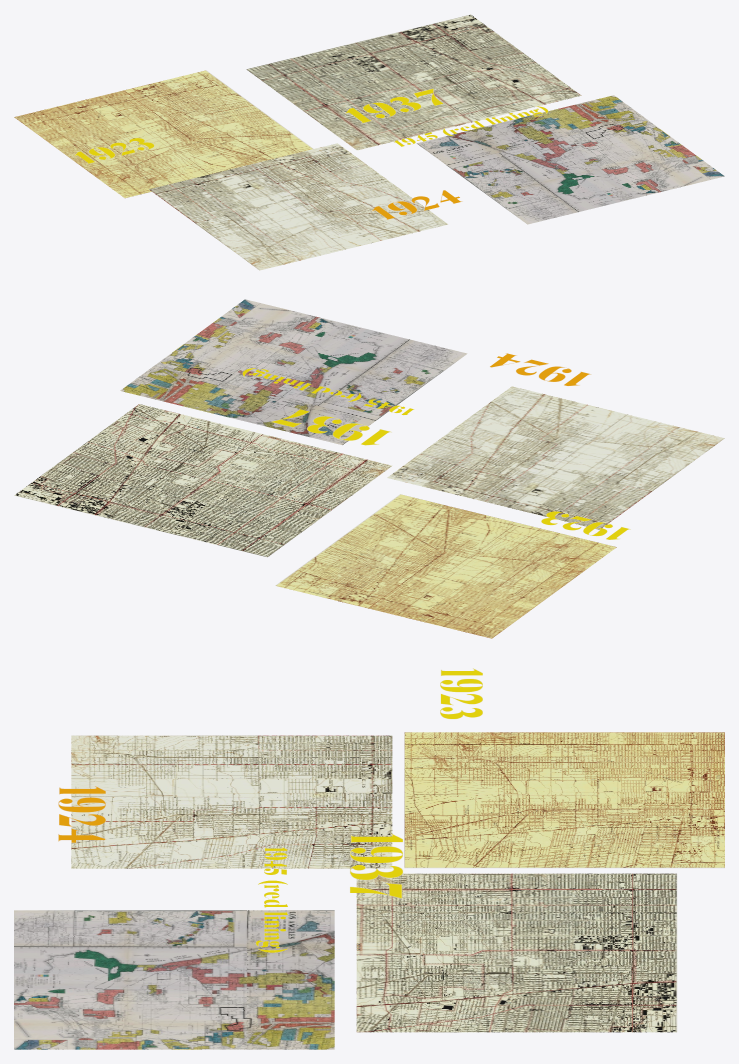
The model's file is asset.glb.
The picture shows the model from 3 angles, top to bottom: view 1: azimuth 30°, elevation 25°; view 2: azimuth 150°, elevation 25°; view 3: azimuth 270°, elevation 25°; orthographic projection. The views are drawn at different scales.
Visible parts, largest first — view 1: 1937, 1945, 1924, 1923, 1937.001, 1924.001, 1945.001, 1923.001; view 2: 1937, 1923, 1945, 1924, 1937.001, 1924.001, 1945.001, 1923.001; view 3: 1937, 1945, 1923, 1924, 1937.001, 1924.001, 1945.001, 1923.001.
Part boxes in pixels (x1,y1,x2,y2): 1937: [246, 14, 581, 150]; 1945: [417, 95, 724, 224]; 1924: [149, 143, 447, 270]; 1923: [14, 70, 313, 198]; 1937.001: [345, 88, 443, 123]; 1924.001: [371, 190, 462, 219]; 1945.001: [394, 106, 548, 146]; 1923.001: [74, 138, 154, 163]; 1937: [14, 404, 392, 557]; 1923: [275, 494, 616, 638]; 1945: [120, 299, 467, 444]; 1924: [387, 386, 724, 529]; 1937.001: [271, 409, 391, 445]; 1924.001: [490, 353, 591, 386]; 1945.001: [242, 368, 414, 415]; 1923.001: [541, 511, 630, 539]; 1937: [356, 873, 677, 1032]; 1945: [14, 910, 334, 1049]; 1923: [404, 732, 724, 868]; 1924: [71, 735, 392, 868]; 1937.001: [350, 833, 402, 898]; 1924.001: [58, 786, 105, 842]; 1945.001: [255, 847, 287, 952]; 1923.001: [440, 668, 482, 719].
Size of the model in its own units: 2.57 by 0.1753 by 2.22.
Materials: 8 (8 with a texture image).
